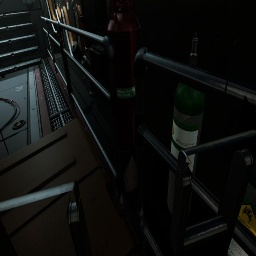0: (167, 32, 205, 216), (226, 158, 256, 256)
NitrogenTank ,: (107, 0, 141, 192), (113, 0, 131, 15)
